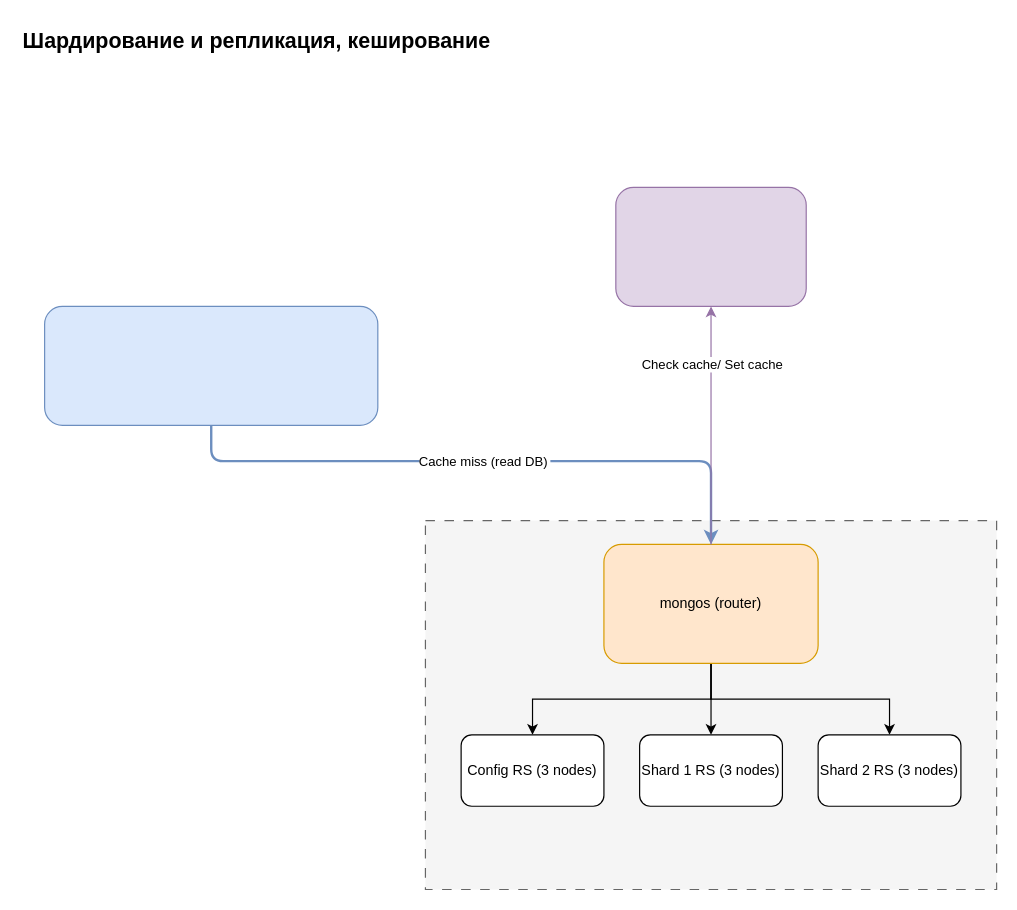
Image size: 1017x910. Some labels were removed from this diagram. The shapes that lost their labels are listed below. From the top down, each one's centre as x and y in pixels, then its label:
At (x=710, y=246): "redis chace".
At (x=210, y=365): "pymongo-api".
